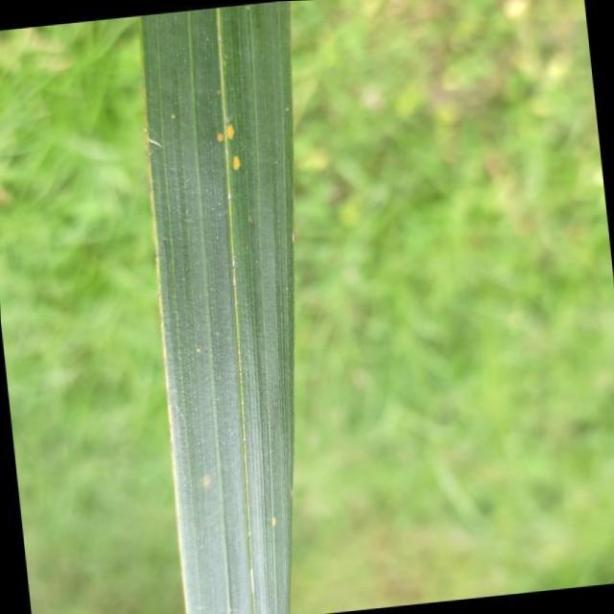Kalium: (139, 5, 296, 614)
